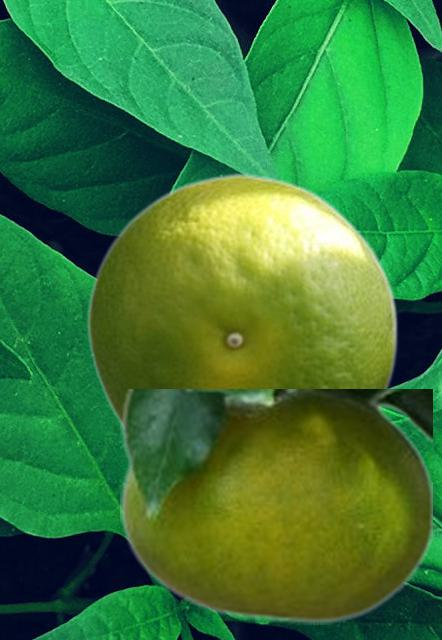dalandan: (86, 172, 397, 427), (120, 389, 431, 623)
